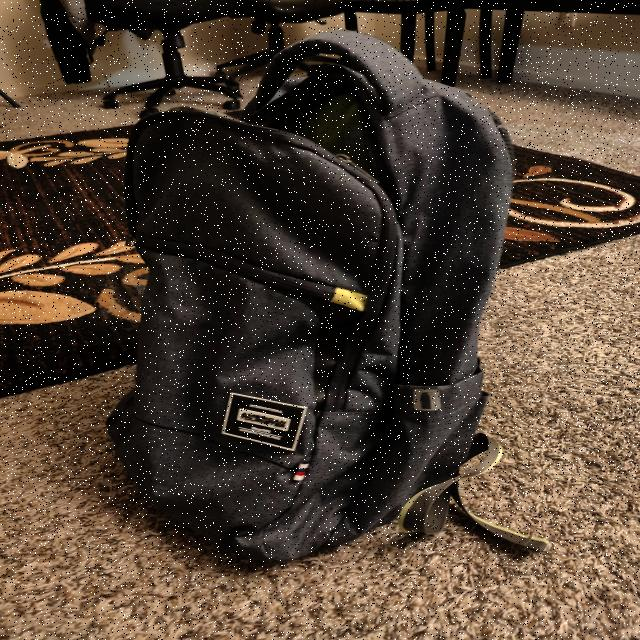bag: (148, 33, 512, 569)
